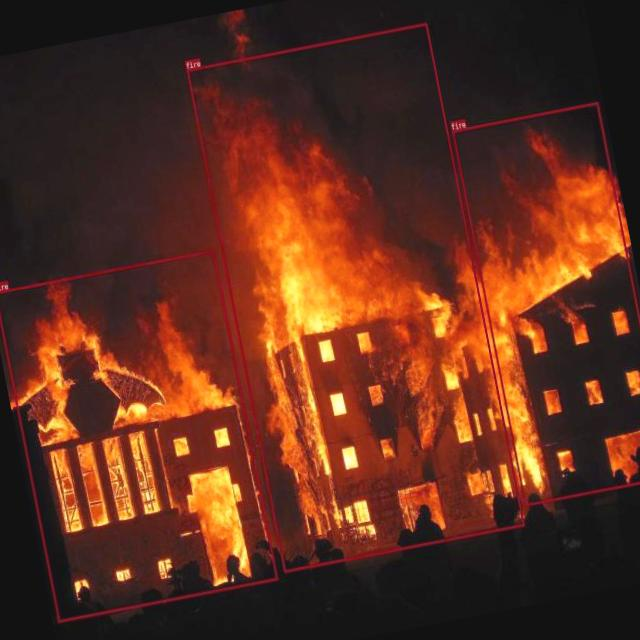fire: (186, 22, 524, 572), (0, 249, 277, 623), (451, 101, 640, 506)
